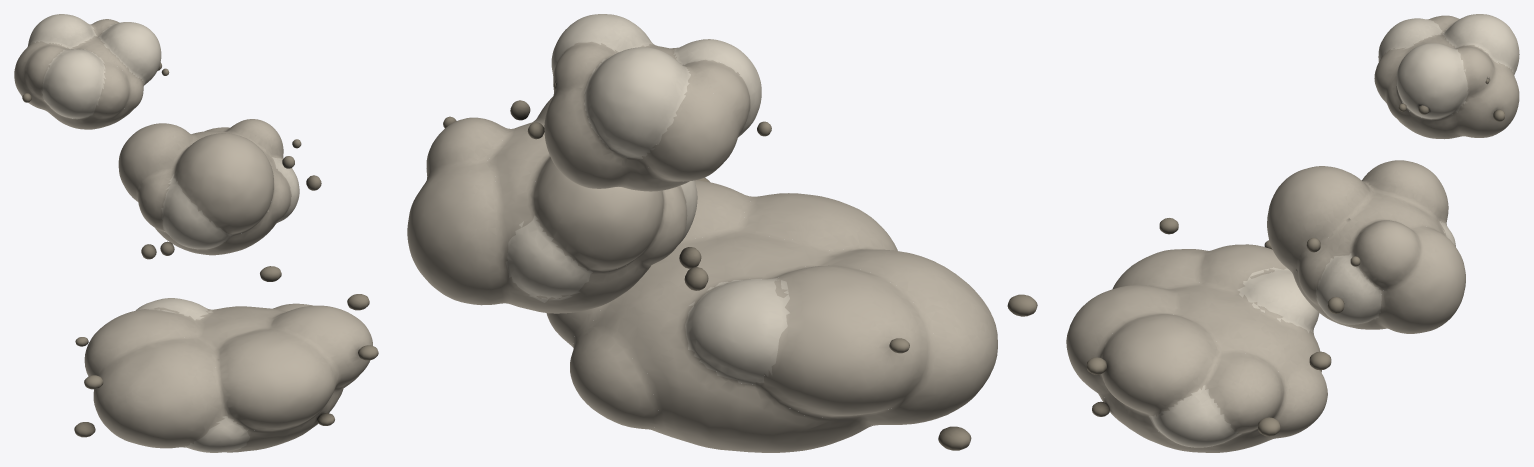
File: kan-jag-fa-menyn.glb
3 views of the same model, side by side, from view 1: azimuth 30°, elevation 25°; view 2: azimuth 150°, elevation 25°; view 3: azimuth 270°, elevation 25° (orthographic). The views are drawn at different scales.
Visible parts, largest first — view 1: poeira3__r0, poeira2__r0, poeira1__r0; view 2: poeira3__r0, poeira2__r0, poeira1__r0, poeira3__r5; view 3: poeira3__r0, poeira2__r0, poeira1__r0.
Part boxes in pixels (x1,y1,x2,y2): poeira3__r0: (84, 298, 372, 452); poeira2__r0: (118, 119, 299, 255); poeira1__r0: (14, 14, 161, 129); poeira3__r0: (546, 180, 997, 452); poeira2__r0: (407, 97, 697, 313); poeira1__r0: (544, 14, 761, 191); poeira3__r5: (938, 426, 971, 450); poeira3__r0: (1066, 244, 1327, 452); poeira2__r0: (1267, 160, 1465, 333); poeira1__r0: (1374, 14, 1519, 139).
Bounding box in the file's own units: 1.07 × 1.07 × 1.14.
